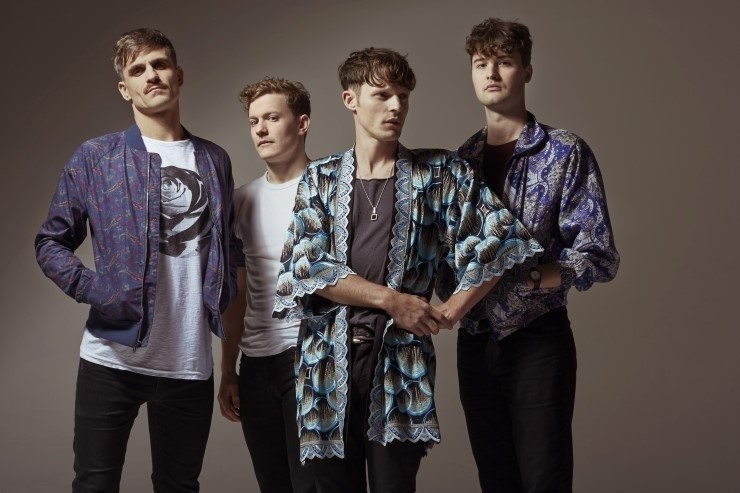face_no_mask: (339, 46, 413, 142), (463, 17, 534, 107), (113, 29, 183, 114), (242, 77, 312, 161)
